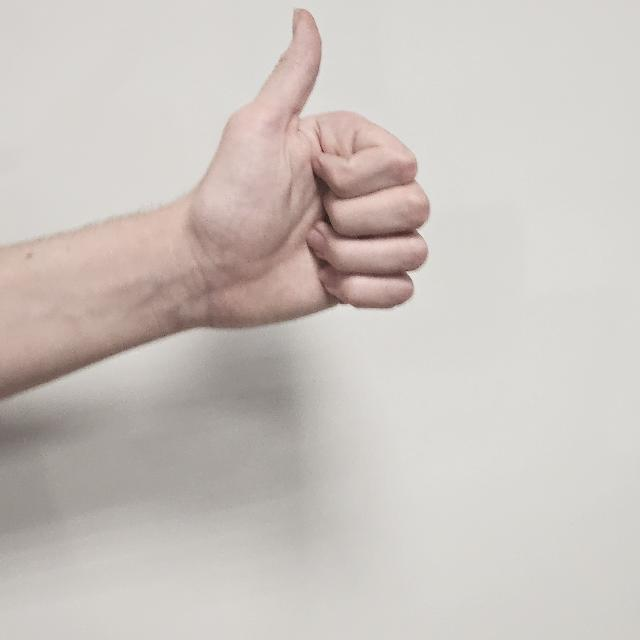Start: (188, 6, 432, 347)
